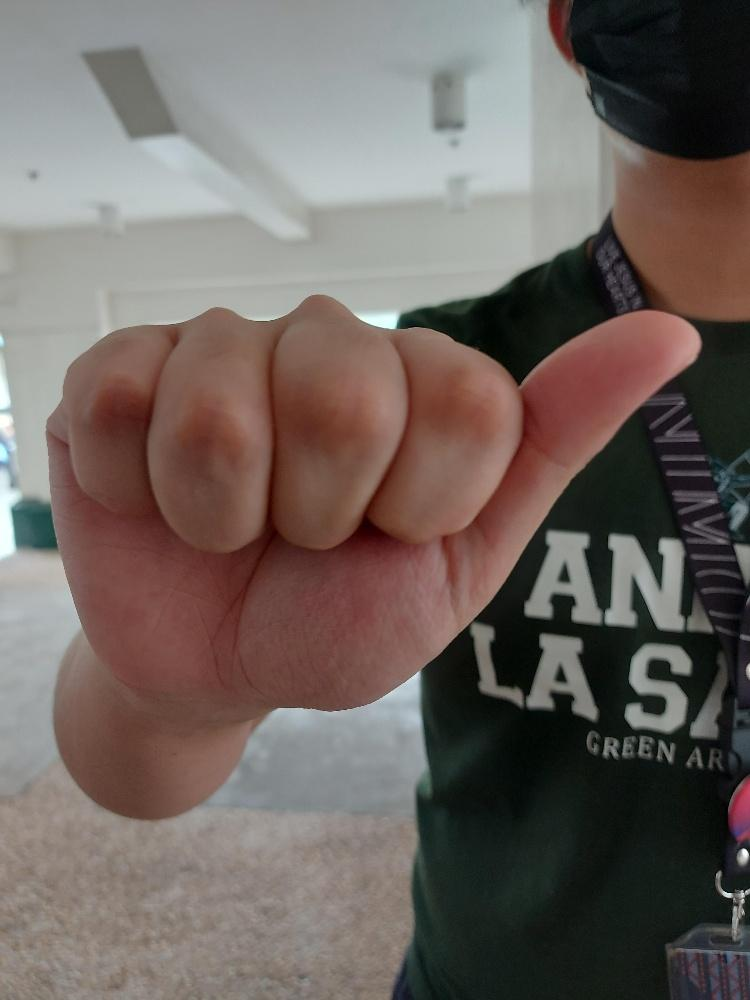a: (42, 289, 702, 712)
